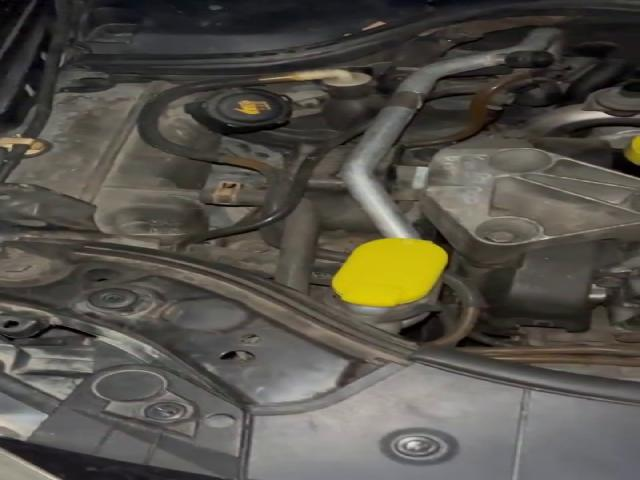antifreeze_tank: (9, 82, 212, 239), (159, 88, 292, 151)
